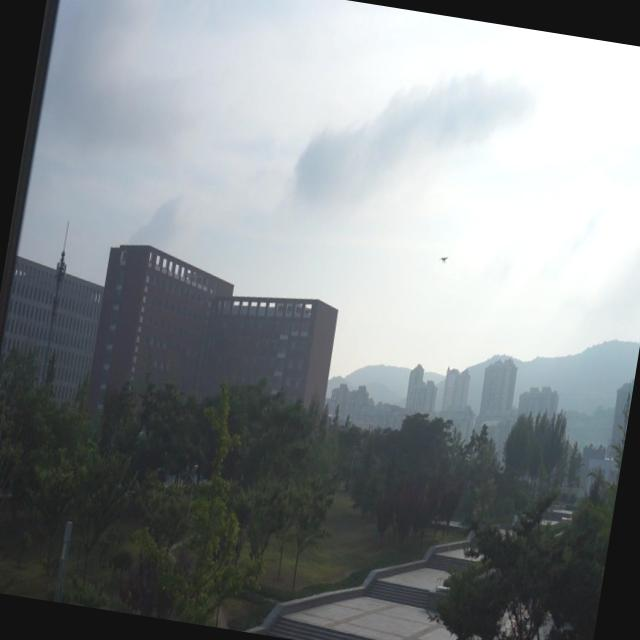drone: (438, 251, 450, 267)
